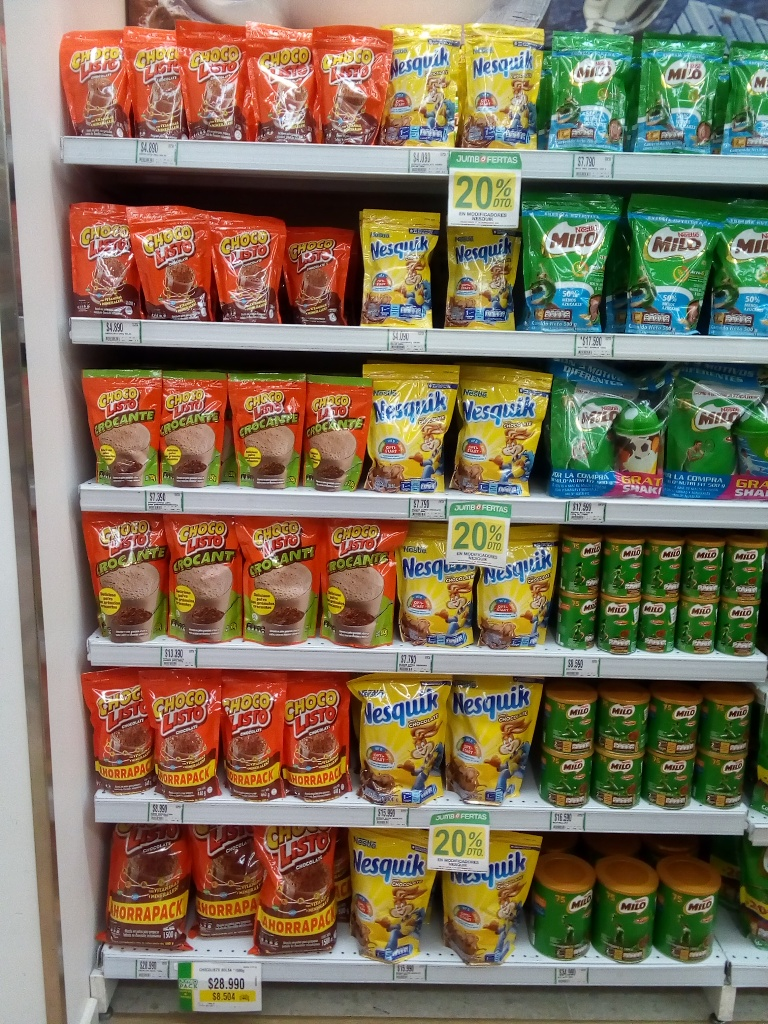COL0170102DYP25000: (81, 367, 163, 486)
COL0170102DYP50000: (79, 509, 170, 643)
COL0170103DYP1,500: (98, 822, 193, 952)
COL0170103DYP20000: (67, 201, 145, 320)
COL0170103DYP44000: (76, 667, 157, 795)
COL0170203LAT20000: (561, 531, 603, 593)
COL0170203LAT40000: (702, 682, 757, 754)
COL0170205DYP20000: (550, 28, 634, 155)
COL0170205DYP50000: (517, 185, 623, 335)
COL0170303DYP20000: (359, 205, 442, 328)
